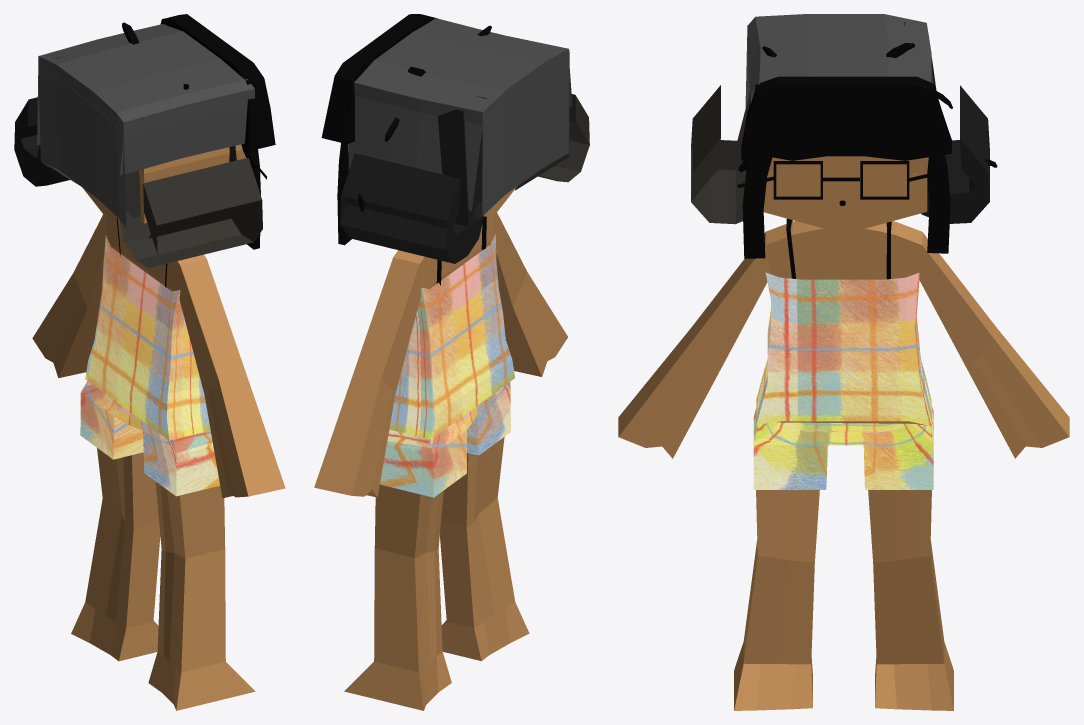
The model's file is girl.glb.
3 views of the same model, side by side, from view 1: azimuth 30°, elevation 25°; view 2: azimuth 150°, elevation 25°; view 3: azimuth 270°, elevation 25° (orthographic). The views are drawn at different scales.
Visible parts, largest first — view 1: Cube.010; view 2: Cube.010; view 3: Cube.010.
Boxes of the visible parts, x1,y1,x2,y2 form: Cube.010: (14,14,285,710); Cube.010: (314,14,589,710); Cube.010: (618,14,1069,710).
Size of the model in its own units: 2.22 by 8.64 by 5.45.
23 materials, 2 textured.
